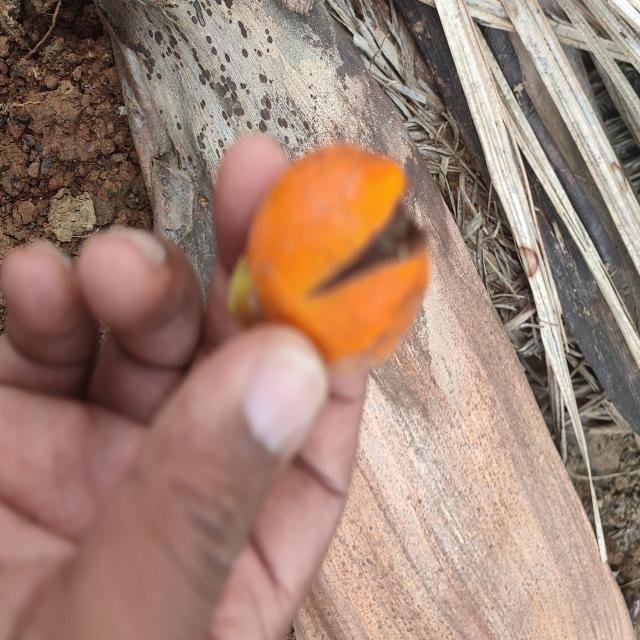damaged: (233, 142, 429, 396)
